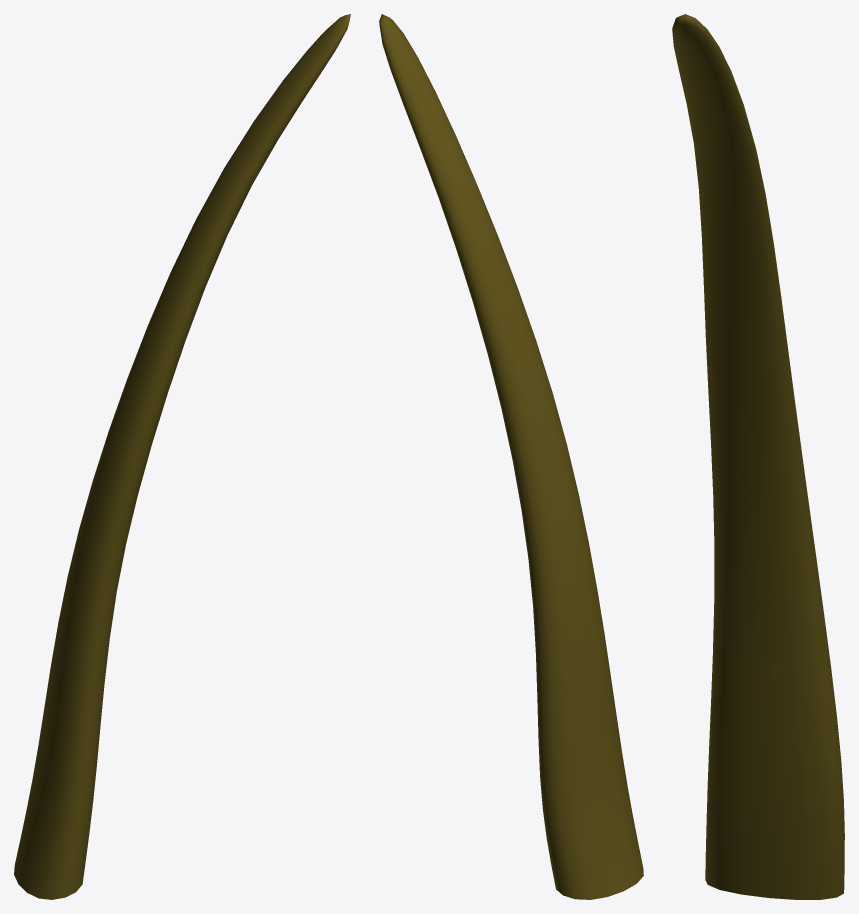
The model's file is grass3.glb.
The picture shows the model from 3 angles, left to right: view 1: azimuth 30°, elevation 25°; view 2: azimuth 150°, elevation 25°; view 3: azimuth 270°, elevation 25°; orthographic projection. The views are drawn at different scales.
Visible parts, largest first — view 1: grass.004; view 2: grass.004; view 3: grass.004.
Part boxes in pixels (left/top/right/bottom): grass.004: left=14, top=14, right=350, bottom=899; grass.004: left=379, top=14, right=643, bottom=899; grass.004: left=672, top=14, right=844, bottom=899.
Bounding box in the file's own units: 0.1798 × 0.4789 × 0.072.
